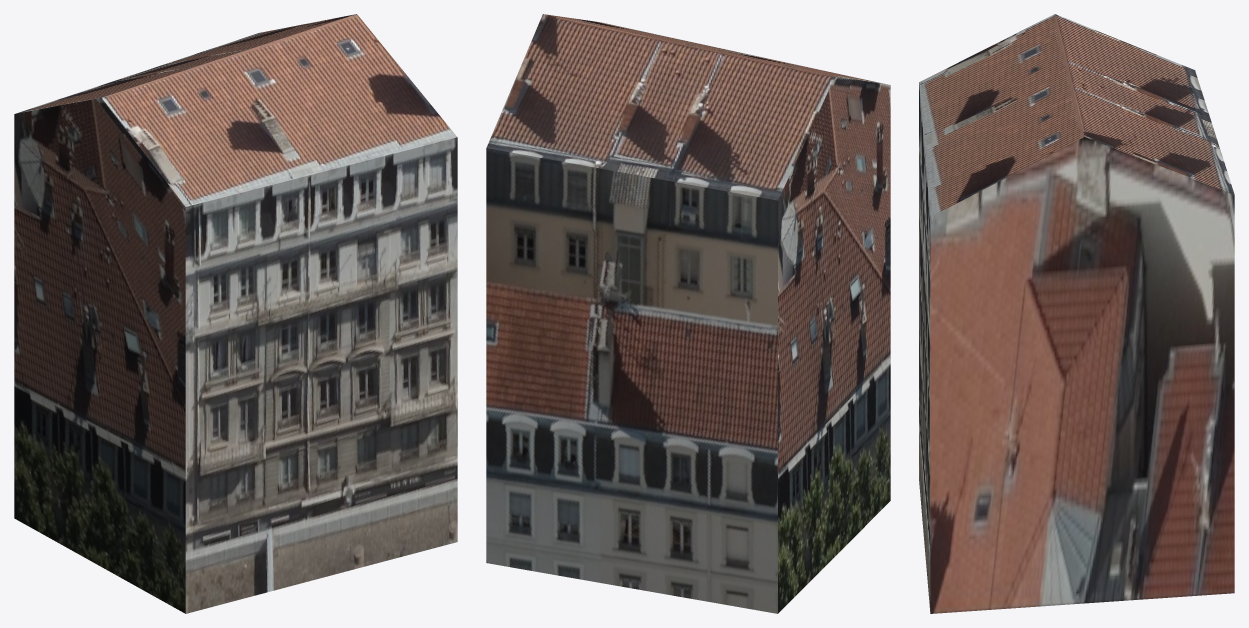
3 renders of one model, left to right at view 1: azimuth 30°, elevation 25°; view 2: azimuth 150°, elevation 25°; view 3: azimuth 270°, elevation 25°, orthographic. The views are drawn at different scales.
Parts seen in each view (by area): view 1: Z_UP; view 2: Z_UP; view 3: Z_UP.
Boxes of the visible parts, x1,y1,x2,y2 form: Z_UP: [14, 14, 457, 613]; Z_UP: [486, 14, 890, 613]; Z_UP: [919, 14, 1234, 613].
Size of the model in its own units: 18.71 by 27.61 by 16.93.
2 materials, 1 textured.
